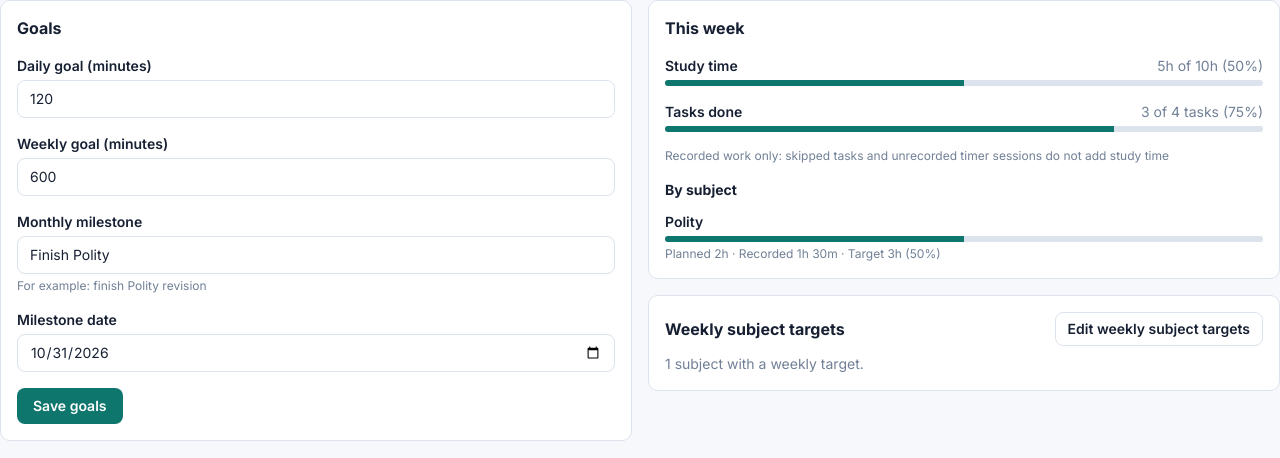
Scenario: GoalsView › saves goals and updates the progress goal text
The width and height of the screenshot is (1280, 458).
Replace the text in the number field labelled "Daily goal (minutes)" with "60": (316, 99) [17,80,615,118]
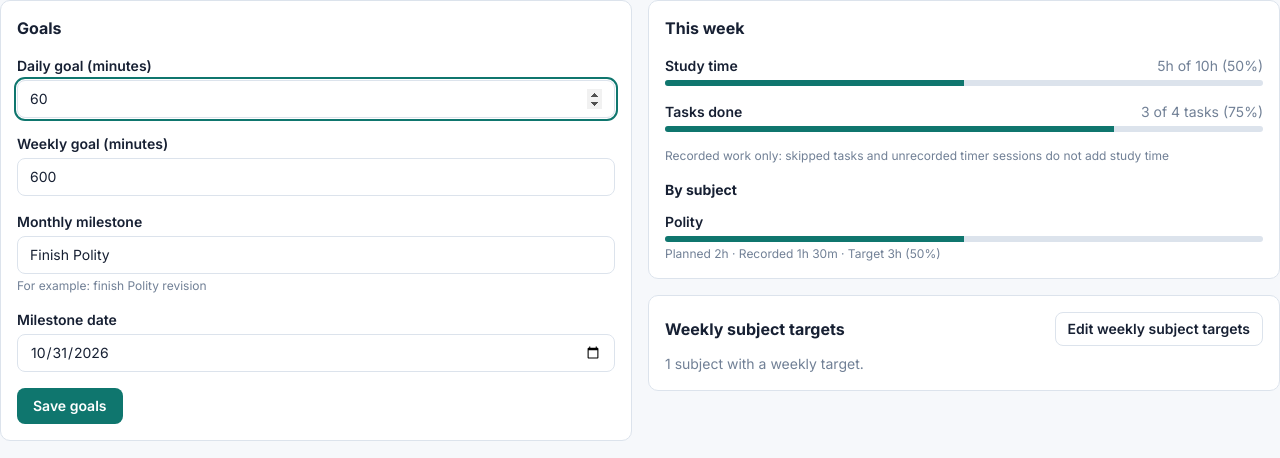
Replace the text in the number field labelled "Weekly goal (minutes)" with "300": (316, 177) [17,158,615,196]
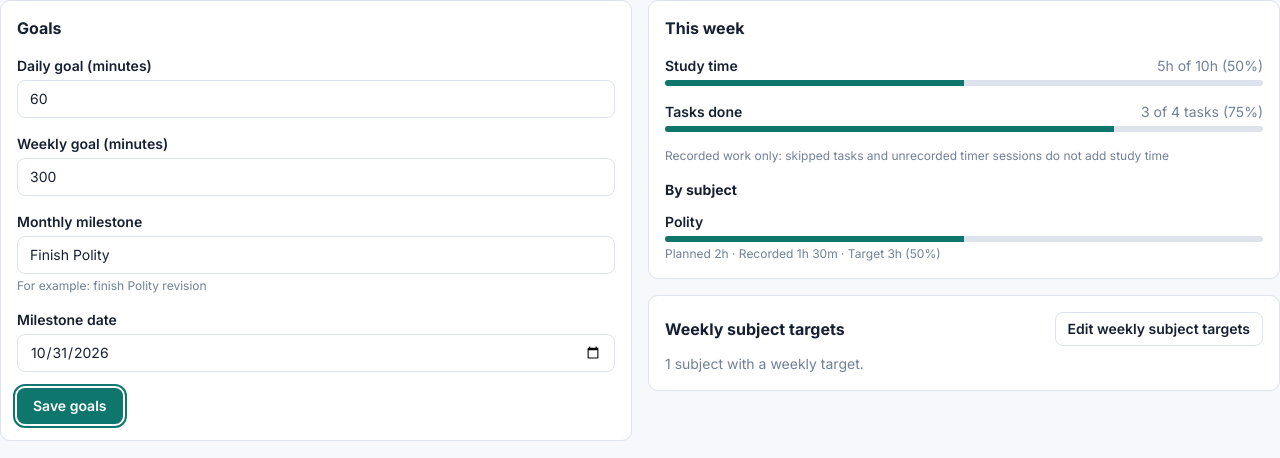
Click the button "Save goals": (70, 406) [17,388,122,424]
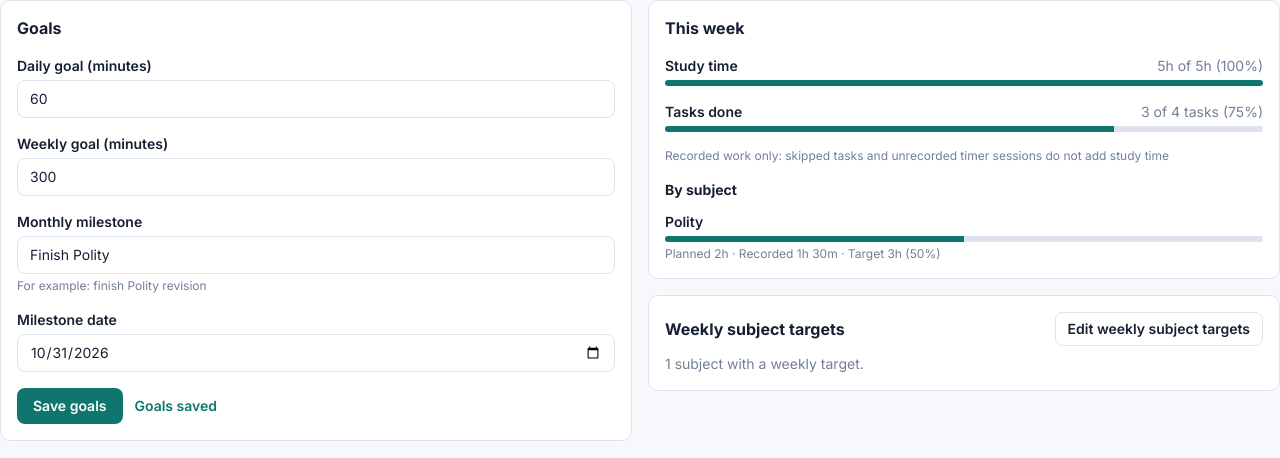
Check: the text "Goals saved" is shown, box [134,396,217,416]
Check: the text "5h of 5h (100%)" is shown, box [1157,56,1263,76]
